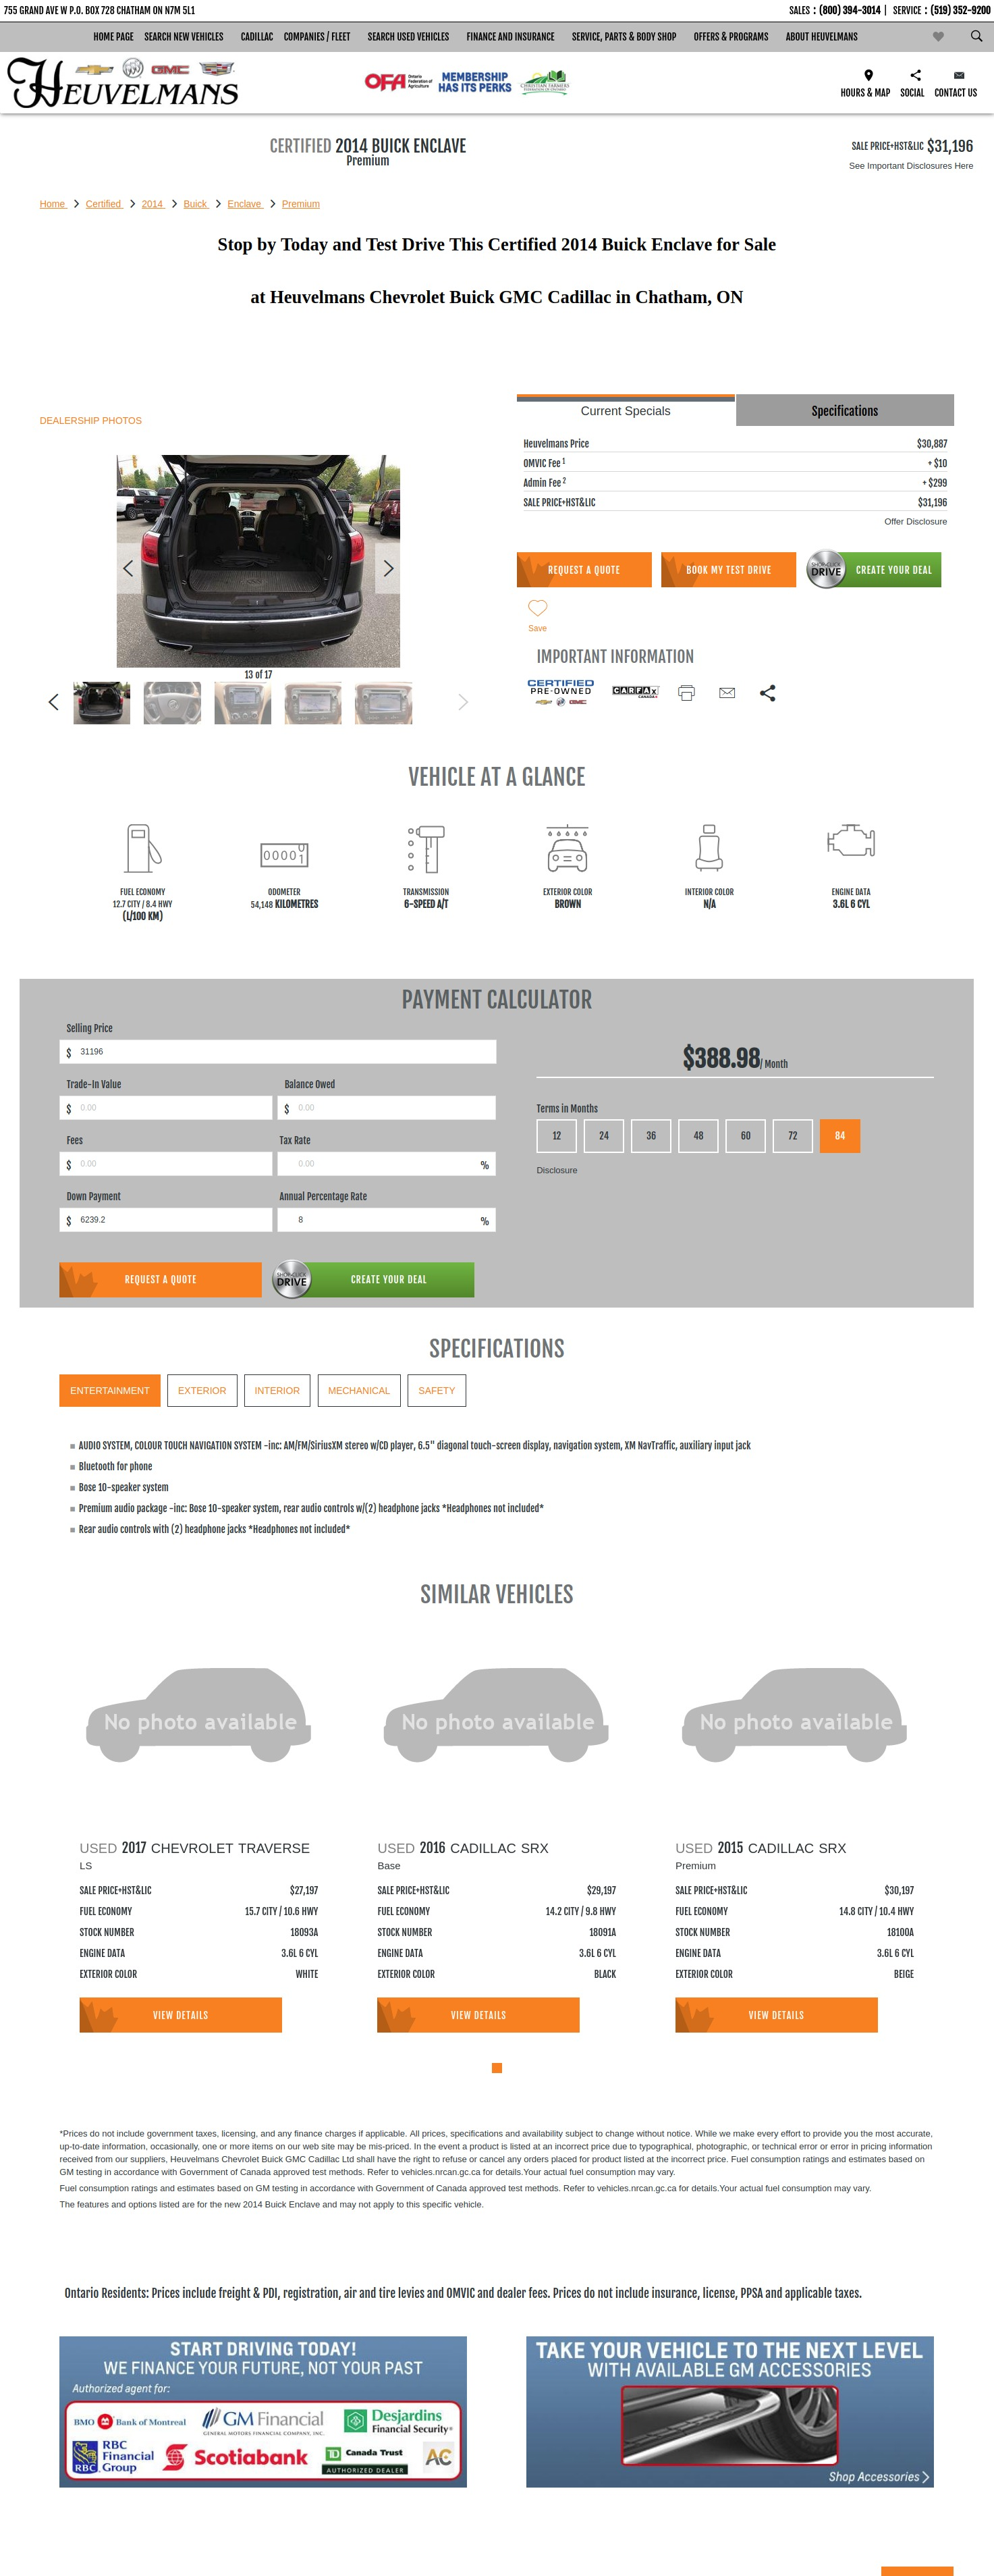car: (384, 560, 394, 578)
